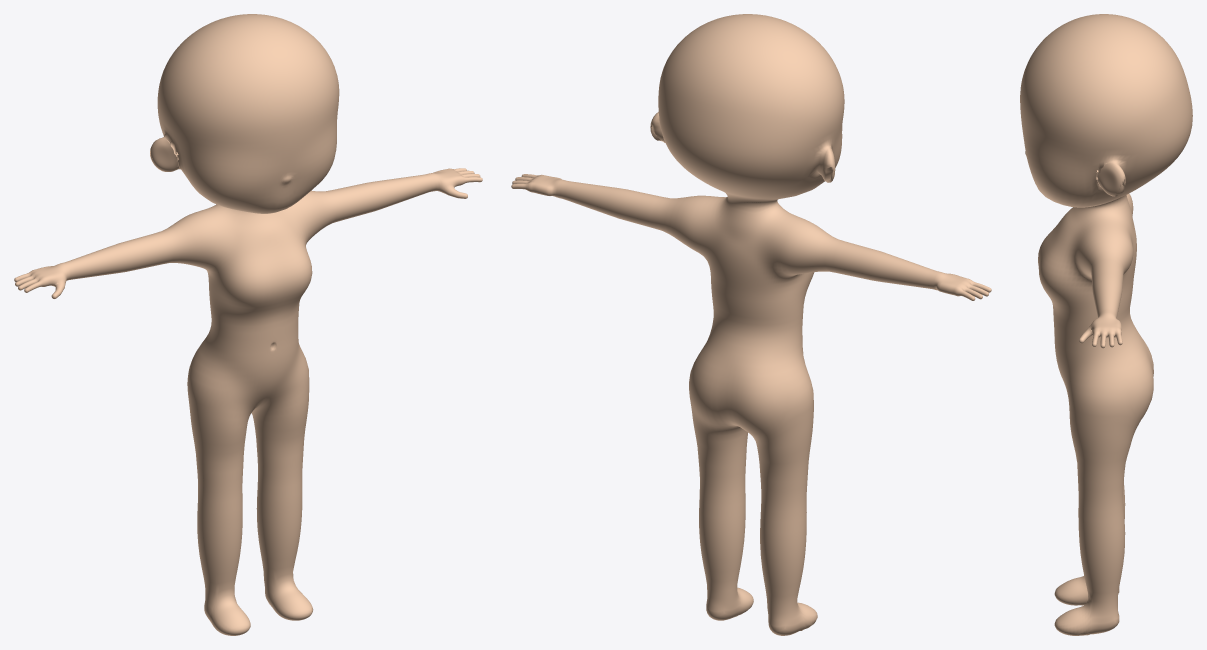
The model's file is female_tall_mesh_only.fbx.
3 views of the same model, side by side, from view 1: azimuth 30°, elevation 25°; view 2: azimuth 150°, elevation 25°; view 3: azimuth 270°, elevation 25° (orthographic). The views are drawn at different scales.
Visible parts, largest first — view 1: Body; view 2: Body; view 3: Body.
Boxes of the visible parts, bbox=[...] form: Body: bbox=[14, 14, 482, 635]; Body: bbox=[511, 14, 991, 635]; Body: bbox=[1020, 14, 1192, 635].
Bounding box in the file's own units: 134 × 164 × 43.35.
